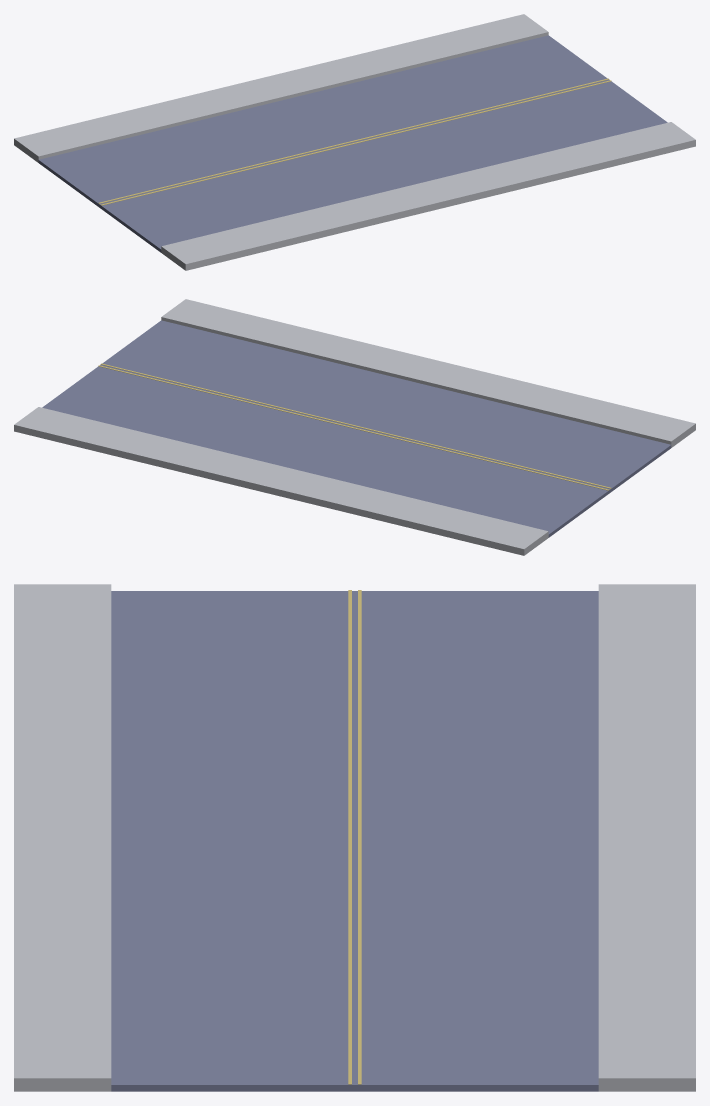
The model's file is 18_roads_plazas-01.glb.
3 views of the same model, one above another, from view 1: azimuth 30°, elevation 25°; view 2: azimuth 150°, elevation 25°; view 3: azimuth 270°, elevation 25° (orthographic). The views are drawn at different scales.
Bounding box in the file's own units: 24 × 0.3 × 14.
